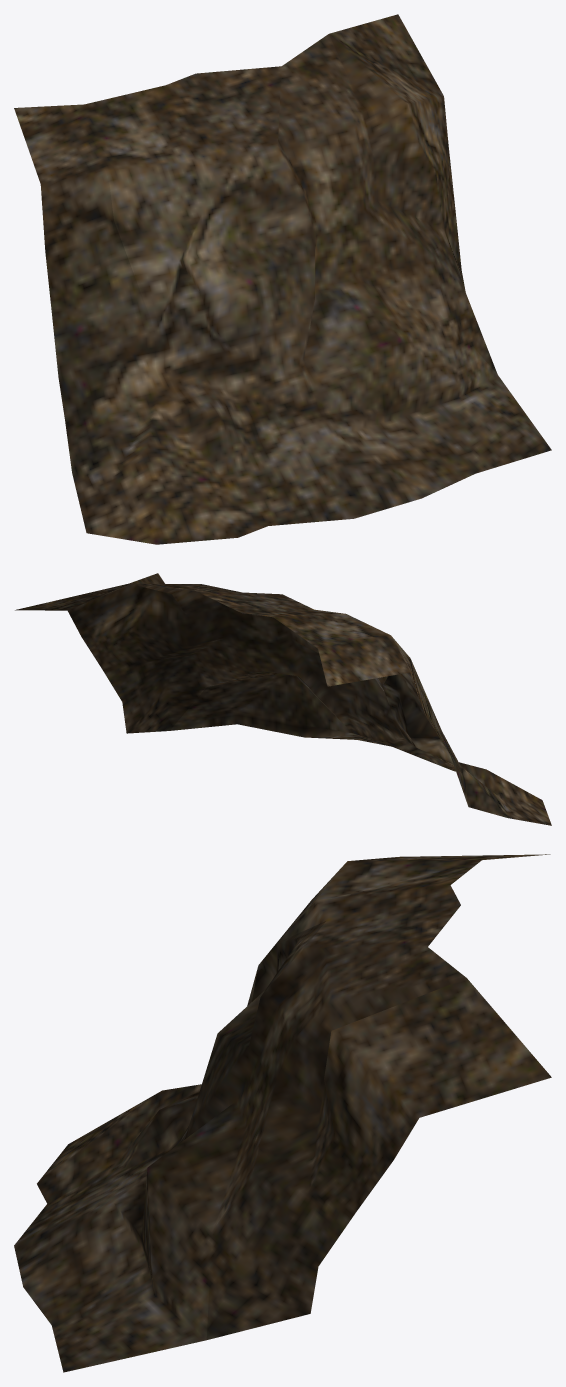
3 views of the same model, one above another, from view 1: azimuth 30°, elevation 25°; view 2: azimuth 150°, elevation 25°; view 3: azimuth 270°, elevation 25° (orthographic). The views are drawn at different scales.
Visible parts, largest first — view 1: a80; view 2: a80; view 3: a80.
Part boxes in pixels (bbox=[...]): a80: bbox=[14, 14, 551, 544]; a80: bbox=[15, 573, 551, 825]; a80: bbox=[14, 854, 551, 1372].
Bounding box in the file's own units: 2194 × 1318 × 1769.
Materials: 1 (1 with a texture image).
